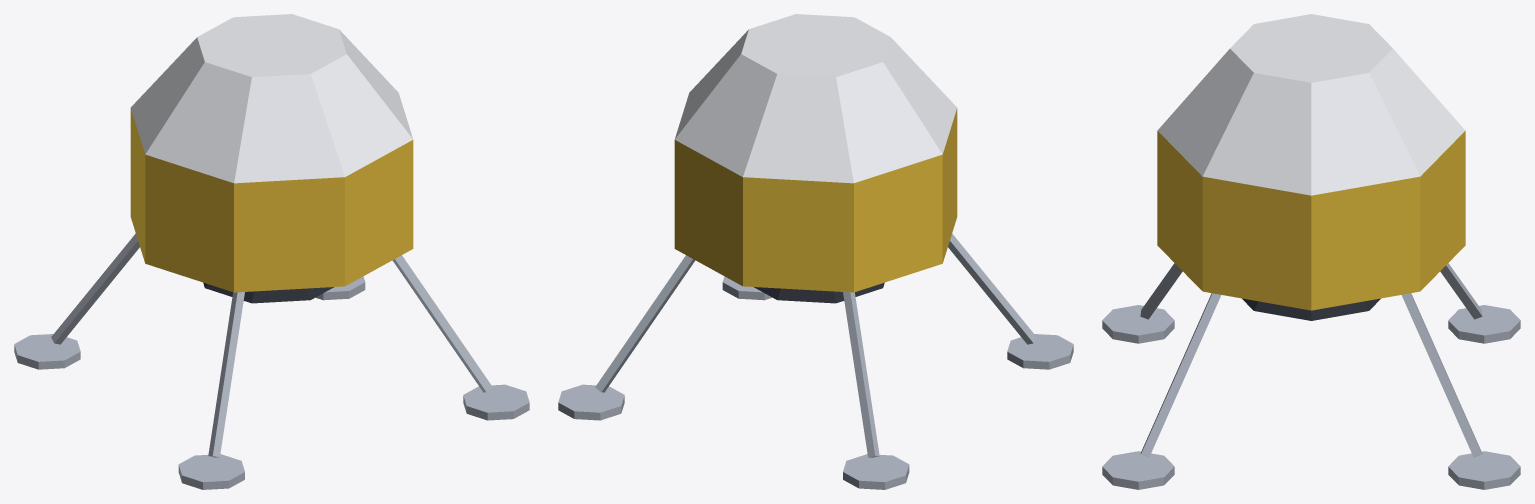
File: lunar-lander.glb
3 views of the same model, side by side, from view 1: azimuth 30°, elevation 25°; view 2: azimuth 150°, elevation 25°; view 3: azimuth 270°, elevation 25° (orthographic). The views are drawn at different scales.
Parts seen in each view (by area): view 1: lander; view 2: lander; view 3: lander.
Boxes of the visible parts, left/top/right/bottom form: lander: left=14, top=14, right=529, bottom=489; lander: left=558, top=14, right=1073, bottom=489; lander: left=1102, top=14, right=1520, bottom=489.
Bounding box in the file's own units: 4.62 × 4.3 × 4.62.
